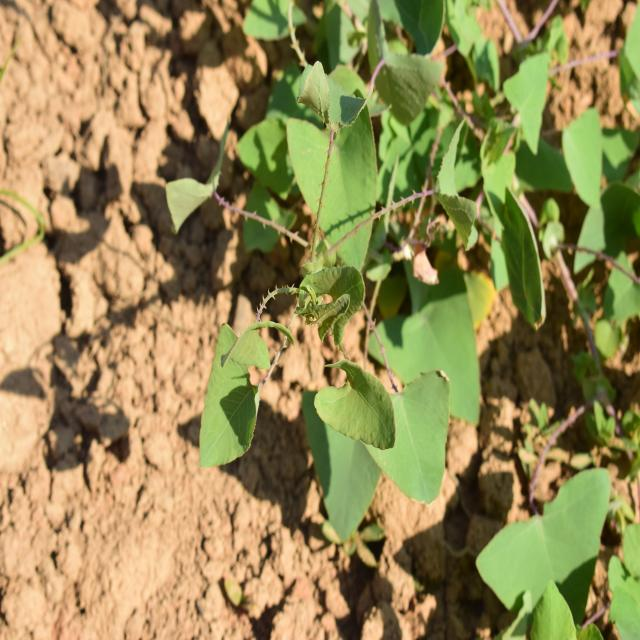Asiatic_Smartweed: (204, 245, 440, 545), (145, 64, 505, 258)
